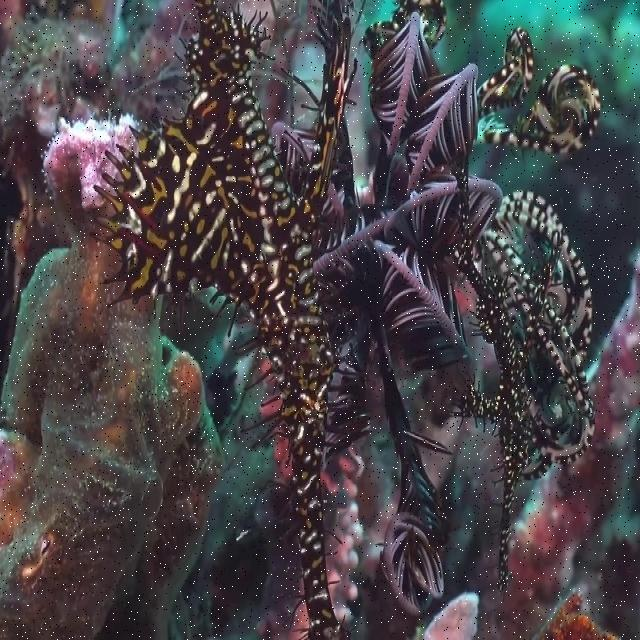aquatic plants: (311, 14, 599, 614)
fish: (89, 1, 358, 639)
reefs: (0, 111, 229, 639)
